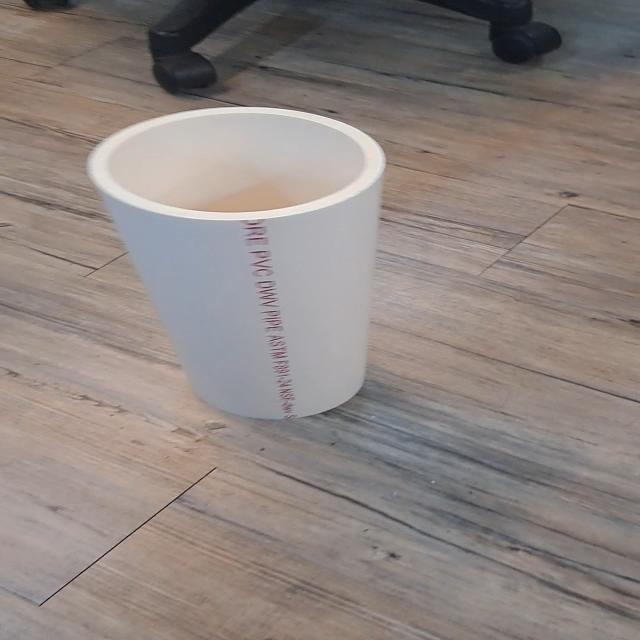CORAL: (86, 90, 404, 421)
